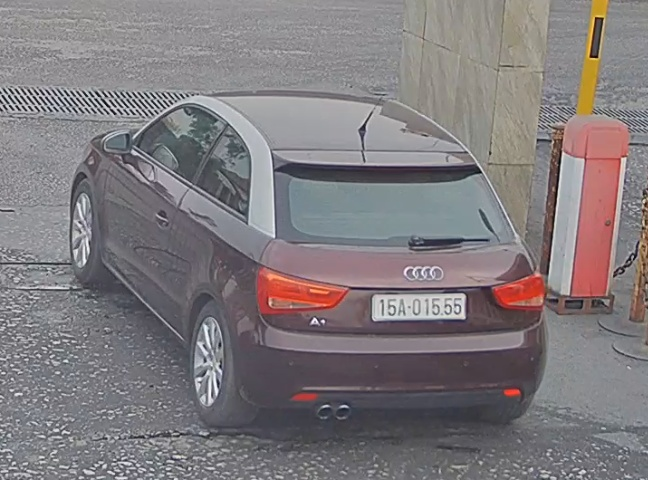vehicle plate: (370, 291, 469, 322)
